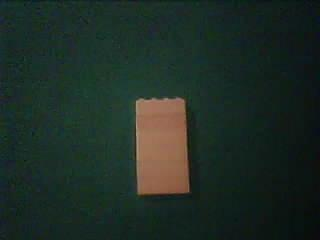lego: (135, 97, 191, 195)
